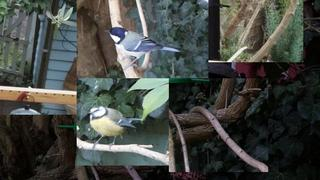blue tit: (87, 105, 142, 151)
great tit: (103, 27, 182, 71)
